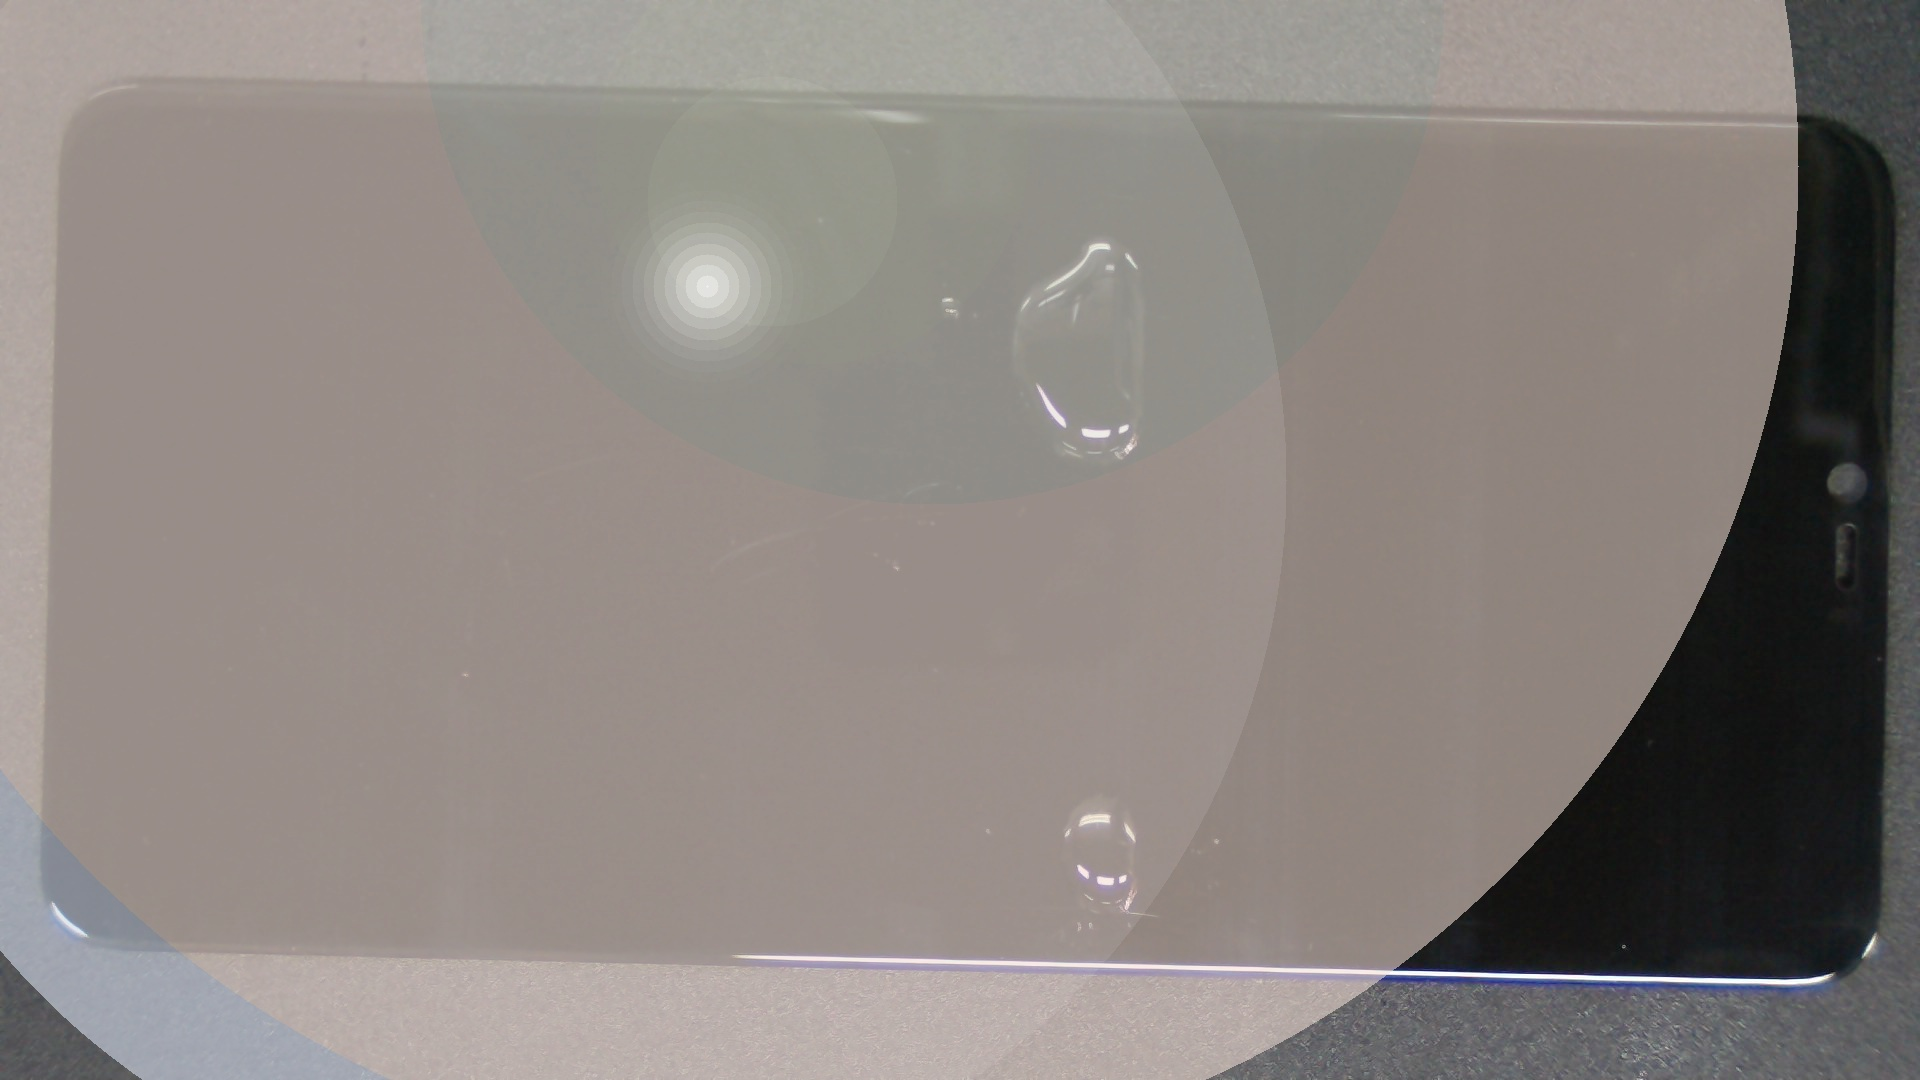oil: (551, 396, 1652, 1080), (477, 148, 1429, 444), (554, 116, 1662, 352)
